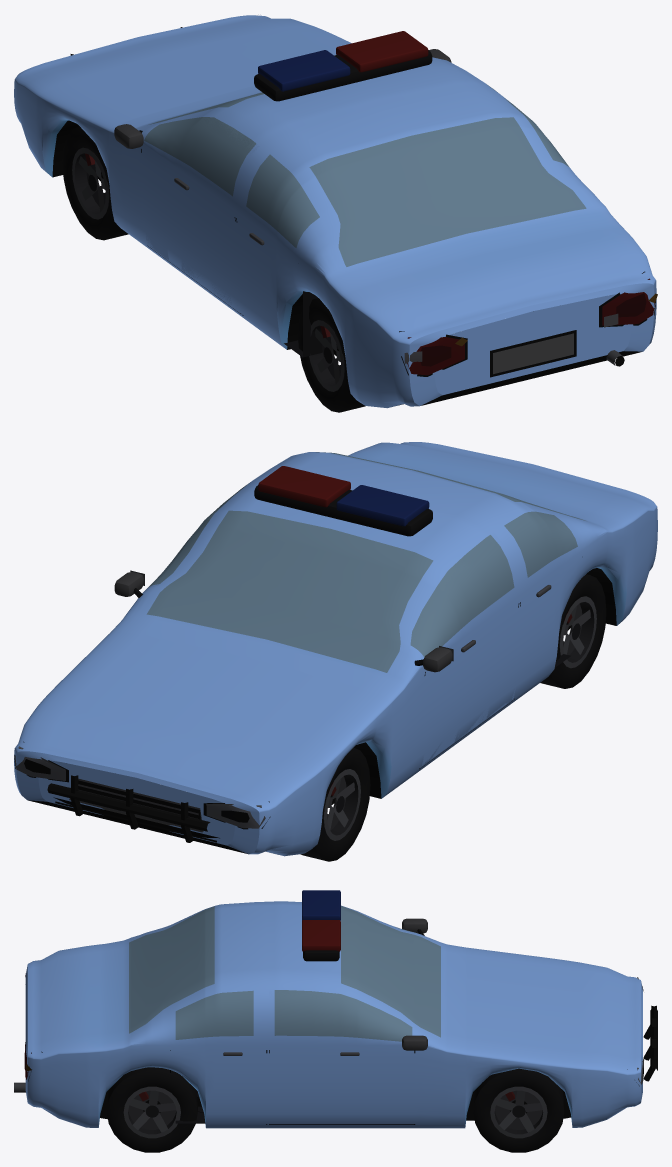
Rendered from cv2_patrol.glb.
3 views of the same model, one above another, from view 1: azimuth 30°, elevation 25°; view 2: azimuth 150°, elevation 25°; view 3: azimuth 270°, elevation 25° (orthographic). The views are drawn at different scales.
Parts seen in each view (by area): view 1: Body, DoorL_Mesh; view 2: Body, DoorL_Mesh, DoorR_Mesh; view 3: Body, DoorR_Mesh.
Boxes of the visible parts, x1,y1,x2,y2 form: Body: (14, 15, 657, 412); DoorL_Mesh: (141, 117, 259, 304); Body: (14, 442, 657, 861); DoorL_Mesh: (410, 532, 518, 765); DoorR_Mesh: (147, 482, 250, 588); Body: (14, 890, 657, 1152); DoorR_Mesh: (269, 990, 414, 1100).
Size of what is drawn, in the model's own units: 2.25 by 1.6 by 4.95.
